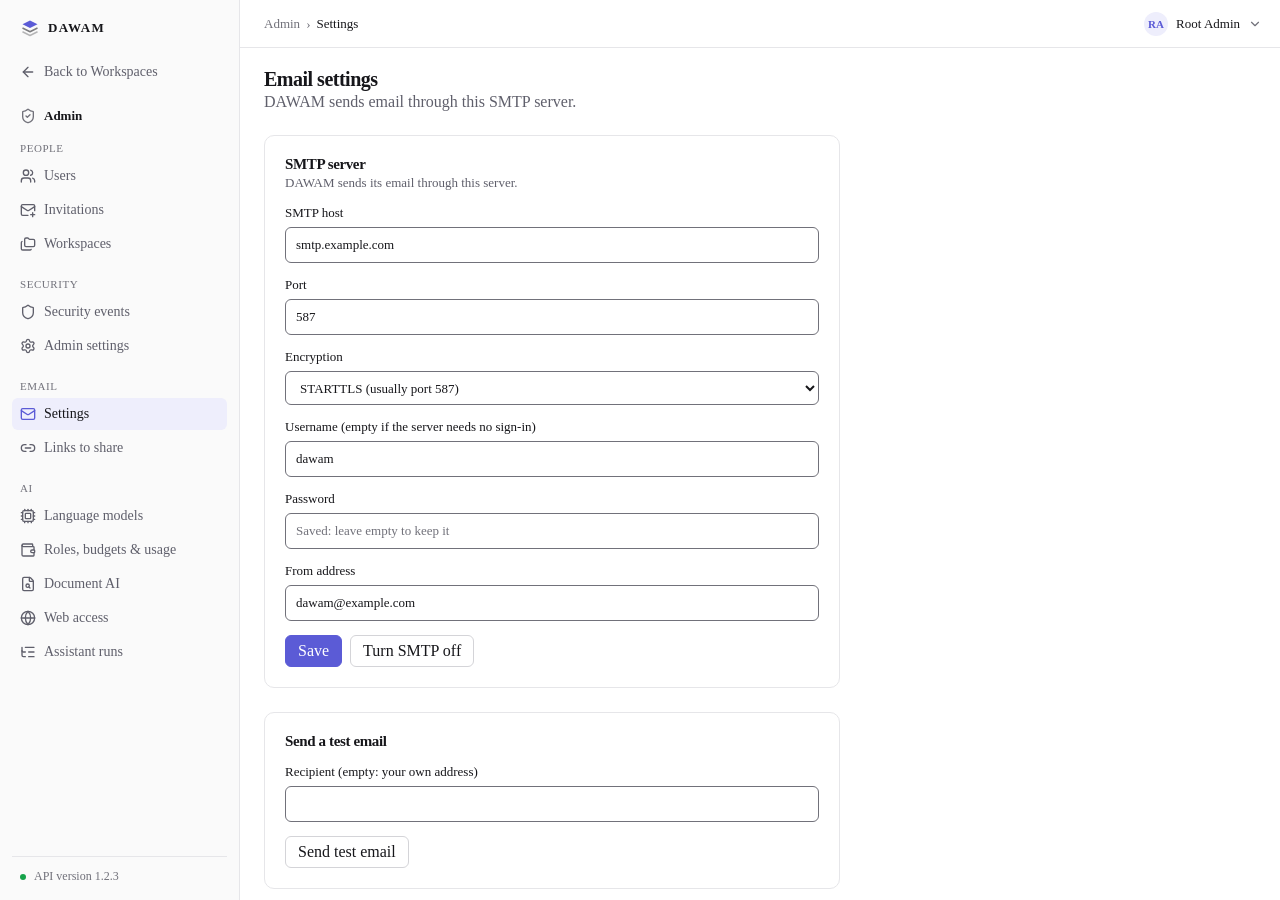
Scenario: email settings › sends a test email and shows why one failed
Click the button "Send test email" at (347, 852), box [285,836,409,868]
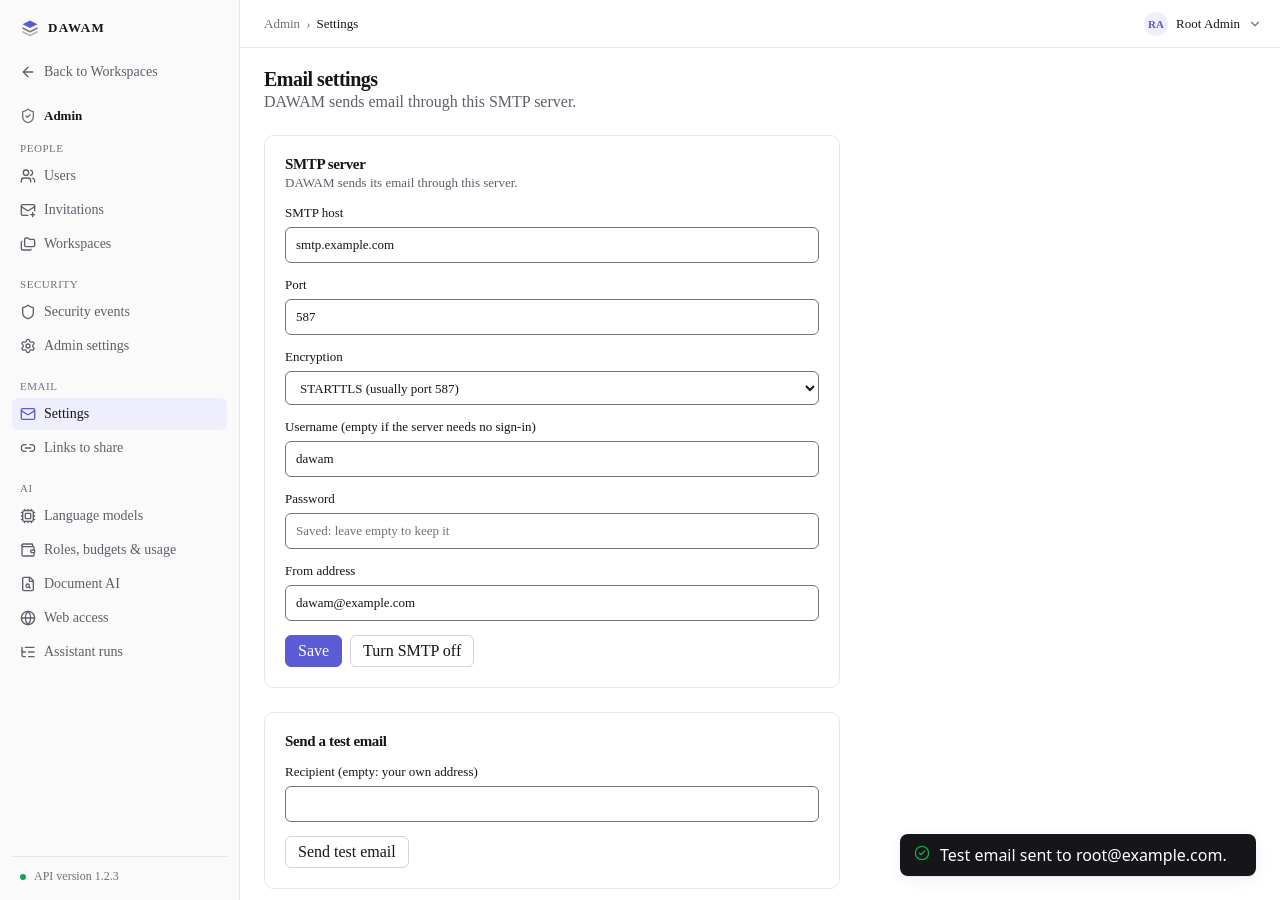
Expected: the text "Test email sent to root@example.com." is shown, [940,844,1227,866]
Click the button "Send test email" at (347, 852), box [285,836,409,868]
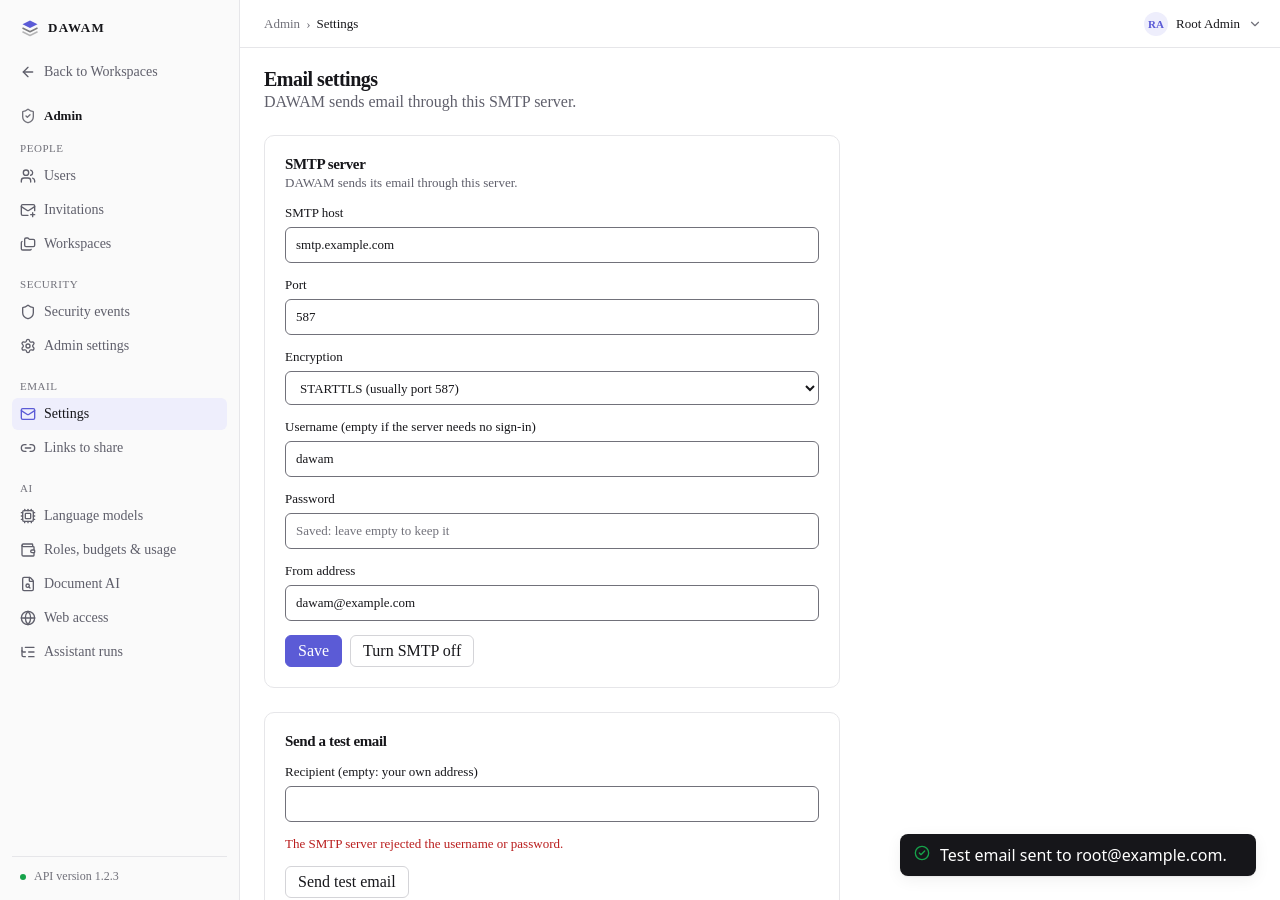
Expected: the text "The SMTP server rejected the username or password." is shown, [285,836,563,851]
